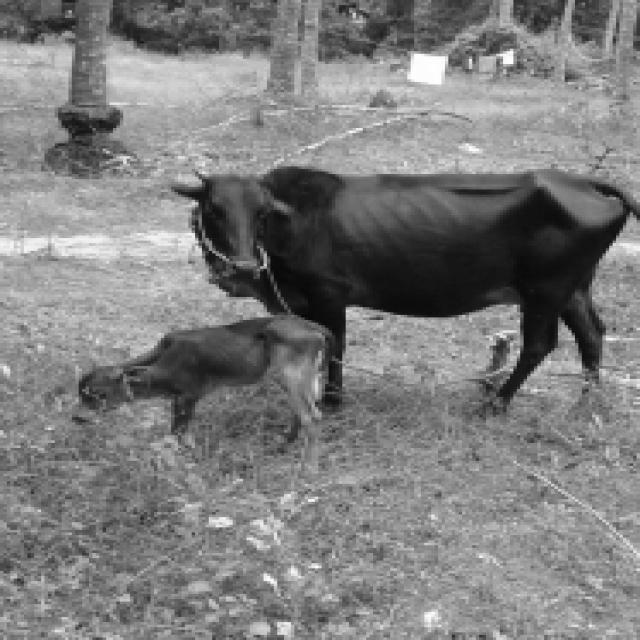cow: (174, 166, 640, 404), (74, 314, 330, 469)
